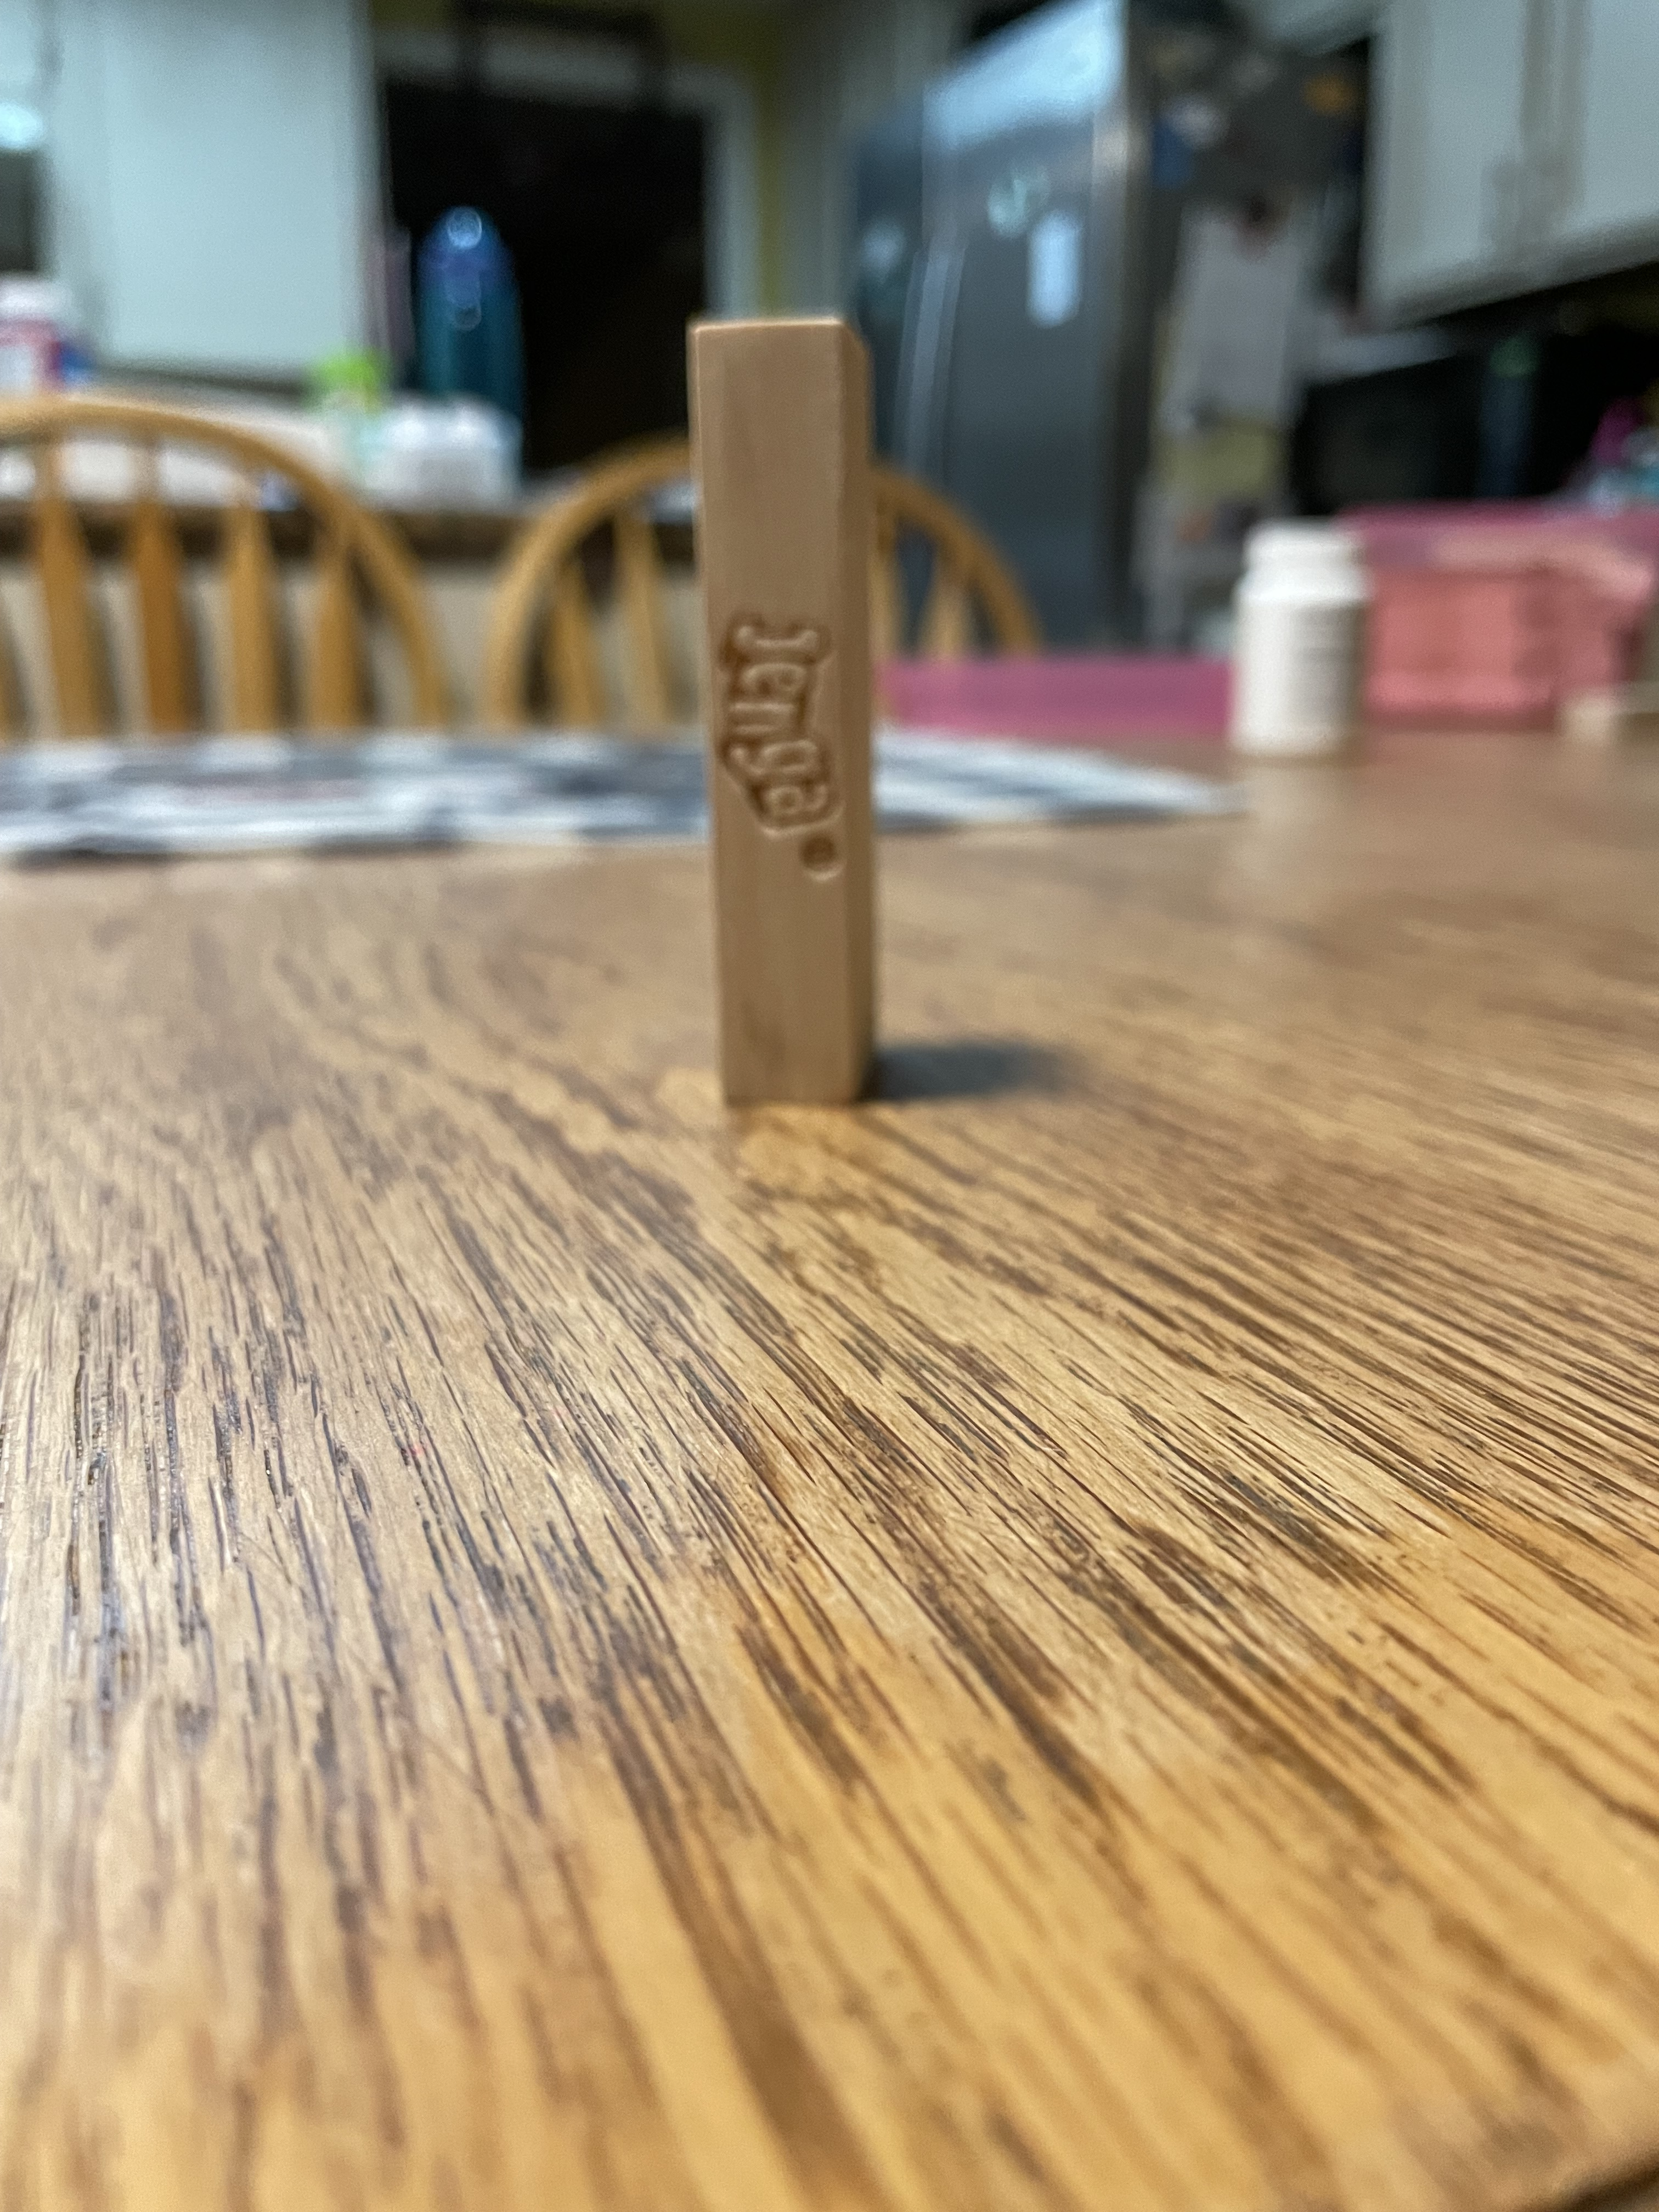jenga: (681, 314, 894, 1104)
